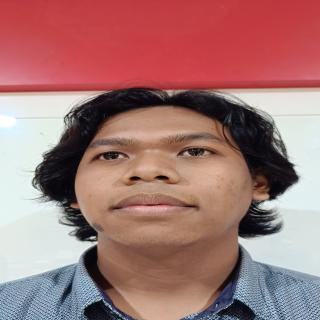Netral: (64, 96, 256, 256)
